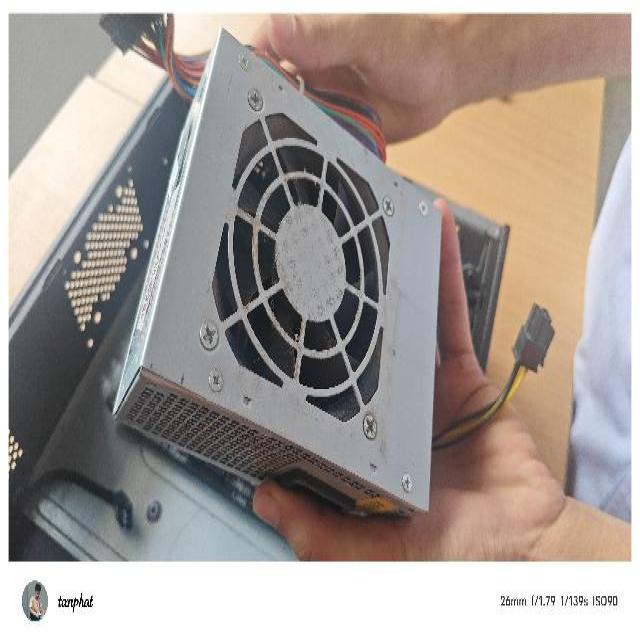PSU: (113, 22, 443, 522)
